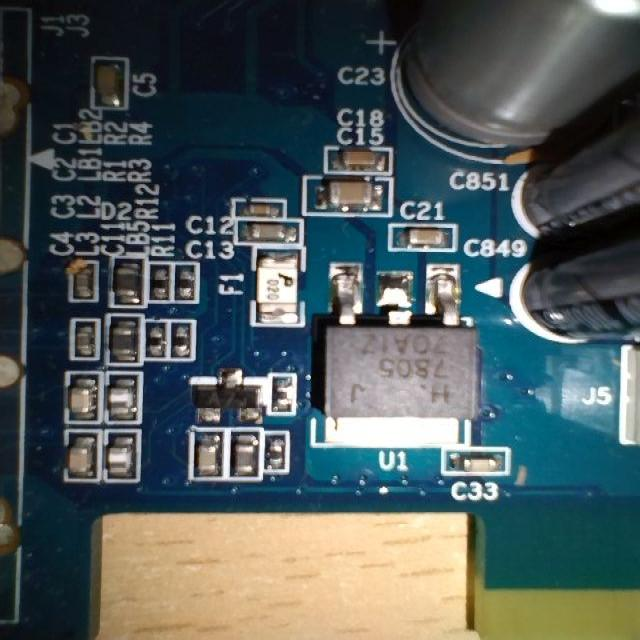capacitor: (300, 171, 394, 216), (91, 55, 129, 112), (187, 427, 224, 481), (62, 432, 98, 482), (62, 372, 98, 422), (447, 447, 509, 476), (233, 429, 261, 486), (324, 148, 392, 171), (105, 431, 137, 476), (106, 375, 137, 420), (236, 224, 303, 244), (392, 227, 452, 246), (232, 199, 284, 217)
resistor: (174, 315, 193, 365), (174, 263, 196, 304), (150, 262, 170, 303), (145, 322, 164, 362)
